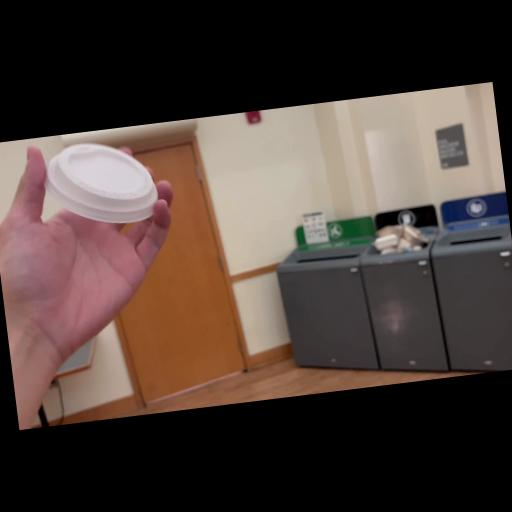lp_cup_lids: (41, 132, 178, 240)
